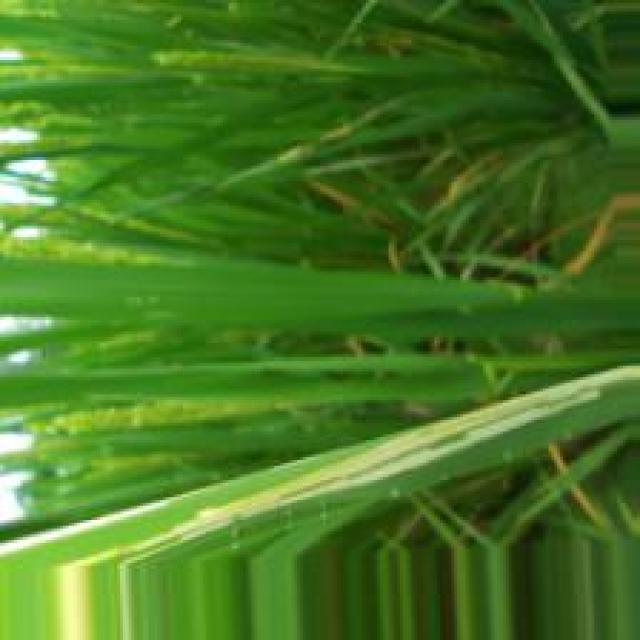Rice_Hispa: (112, 359, 640, 557)
